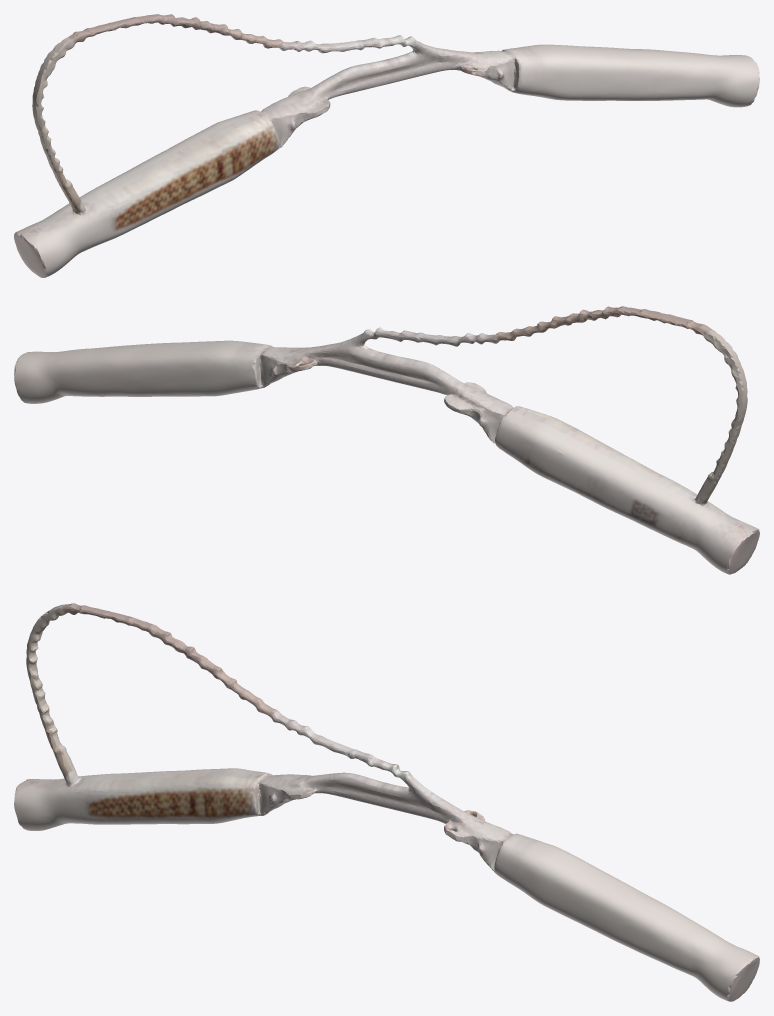
File: li-ning-aeronaut-9000-hyper3d.glb
The picture shows the model from 3 angles, top to bottom: view 1: azimuth 30°, elevation 25°; view 2: azimuth 150°, elevation 25°; view 3: azimuth 330°, elevation 25°; orthographic projection.
Parts seen in each view (by area): view 1: LiNing_Aeronaut_9000_Hyper3D; view 2: LiNing_Aeronaut_9000_Hyper3D; view 3: LiNing_Aeronaut_9000_Hyper3D.
Part boxes in pixels (<box>): LiNing_Aeronaut_9000_Hyper3D: <box>14,14,759,277</box>; LiNing_Aeronaut_9000_Hyper3D: <box>14,306,759,574</box>; LiNing_Aeronaut_9000_Hyper3D: <box>14,603,759,1001</box>.
Bounding box in the file's own units: 0.675 × 0.2075 × 0.0456.
1 material, 1 textured.
